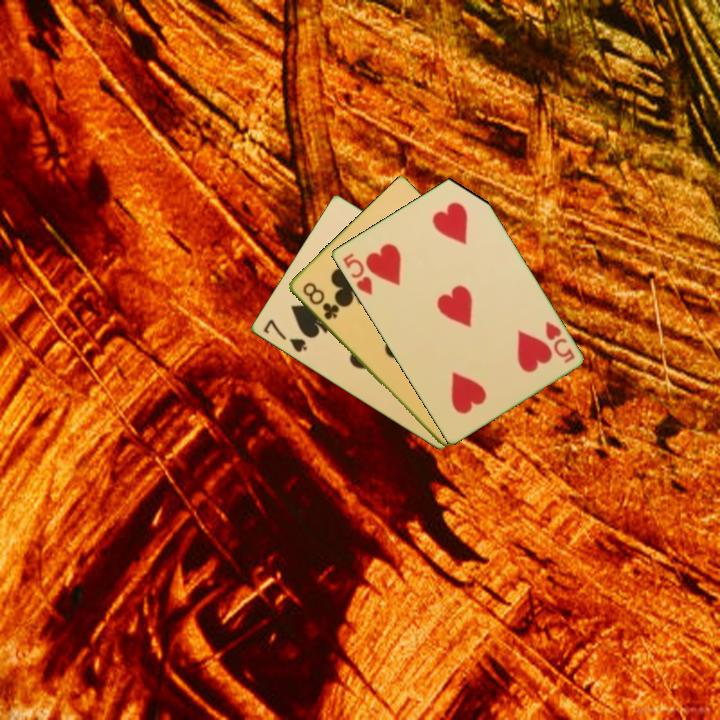5h: (339, 249, 375, 298), (541, 318, 577, 366)
7s: (259, 315, 310, 356)
8c: (299, 279, 342, 323)
